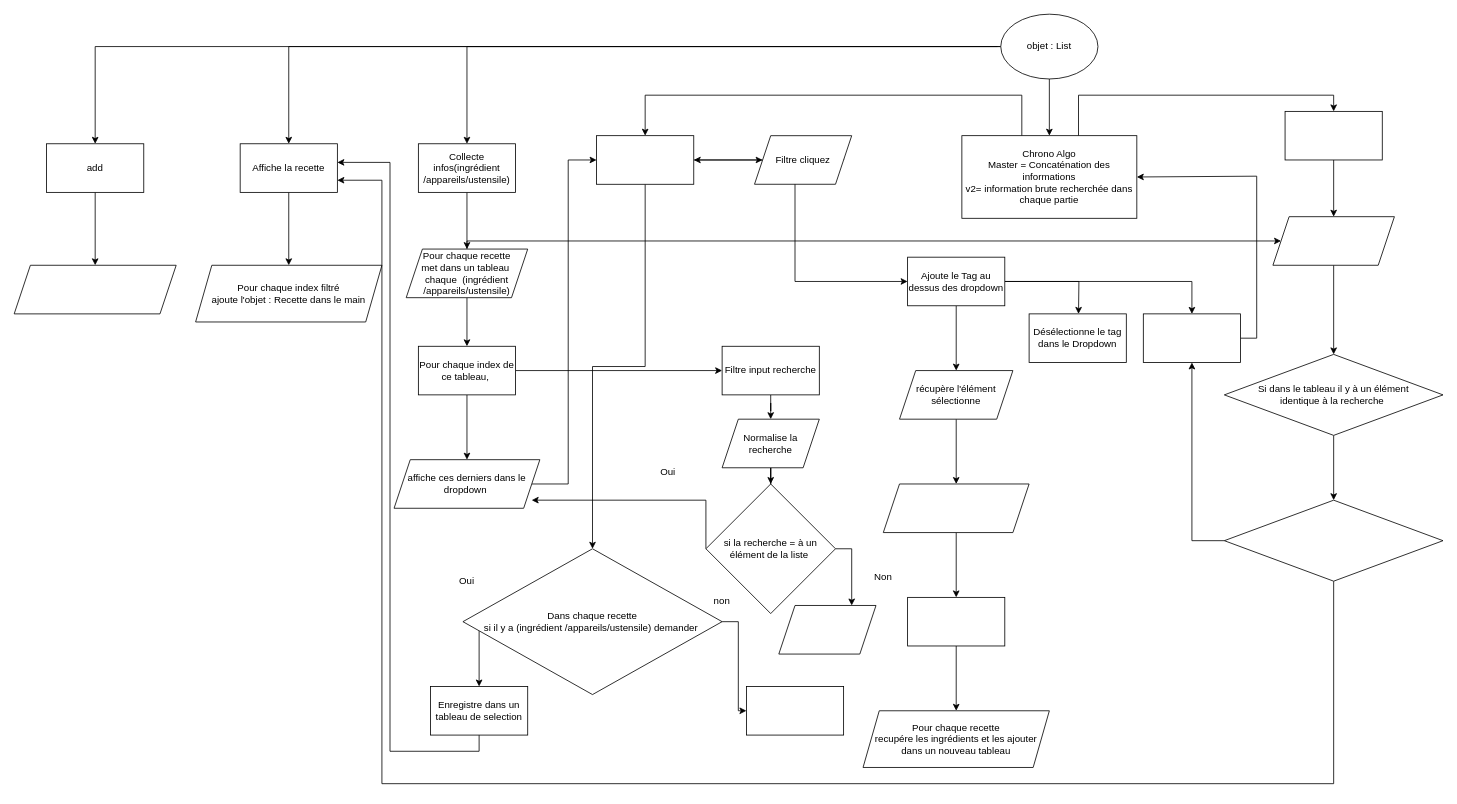
This 1457x804 diagram has some shape labels left out. The centre of each missing label's shape, as x and y in pixels:
Affiche rien: the point at 827,629
dans un tableau générale les recettes: the point at 94,289
Fermeture des recherche: the point at 1192,337
Filtre de recherche général: the point at 1333,135
Filtres par (ingrédient /appareils/ustensile): the point at 645,159
N'enregistre pas: the point at 795,710
Normalisation de la recherche: the point at 1333,240
On l'intègre dans le DOM: the point at 955,508
si l'élément rechercher à min 3 caractère: the point at 1333,540
Vérification des recettes restantes: the point at 956,621
